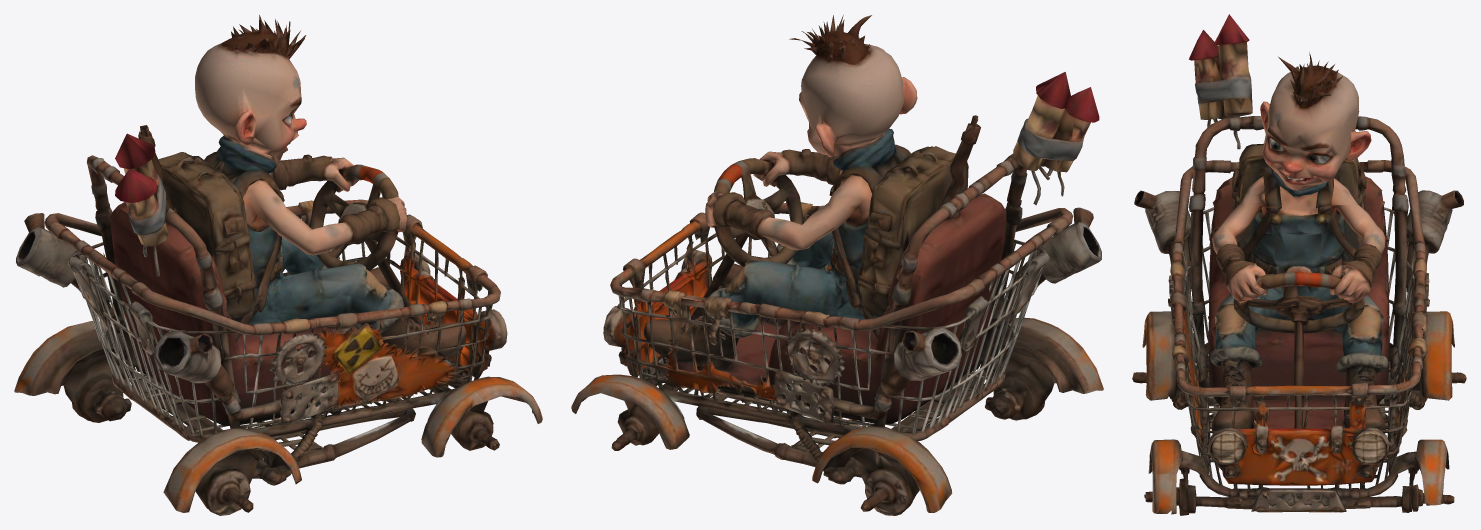
Rendered from axel.glb.
The picture shows the model from 3 angles, left to right: view 1: azimuth 30°, elevation 25°; view 2: azimuth 150°, elevation 25°; view 3: azimuth 270°, elevation 25°; orthographic projection. The views are drawn at different scales.
Visible parts, largest first — view 1: tripo_node_43683be0-cb58-4310-b09e-72598317971a; view 2: tripo_node_43683be0-cb58-4310-b09e-72598317971a; view 3: tripo_node_43683be0-cb58-4310-b09e-72598317971a.
Boxes of the visible parts, left/top/right/bottom form: tripo_node_43683be0-cb58-4310-b09e-72598317971a: left=14, top=15, right=542, bottom=515; tripo_node_43683be0-cb58-4310-b09e-72598317971a: left=571, top=15, right=1103, bottom=515; tripo_node_43683be0-cb58-4310-b09e-72598317971a: left=1132, top=14, right=1466, bottom=515.
Size of the model in its own units: 0.9661 by 0.979 by 0.7496.
1 material, 1 textured.
